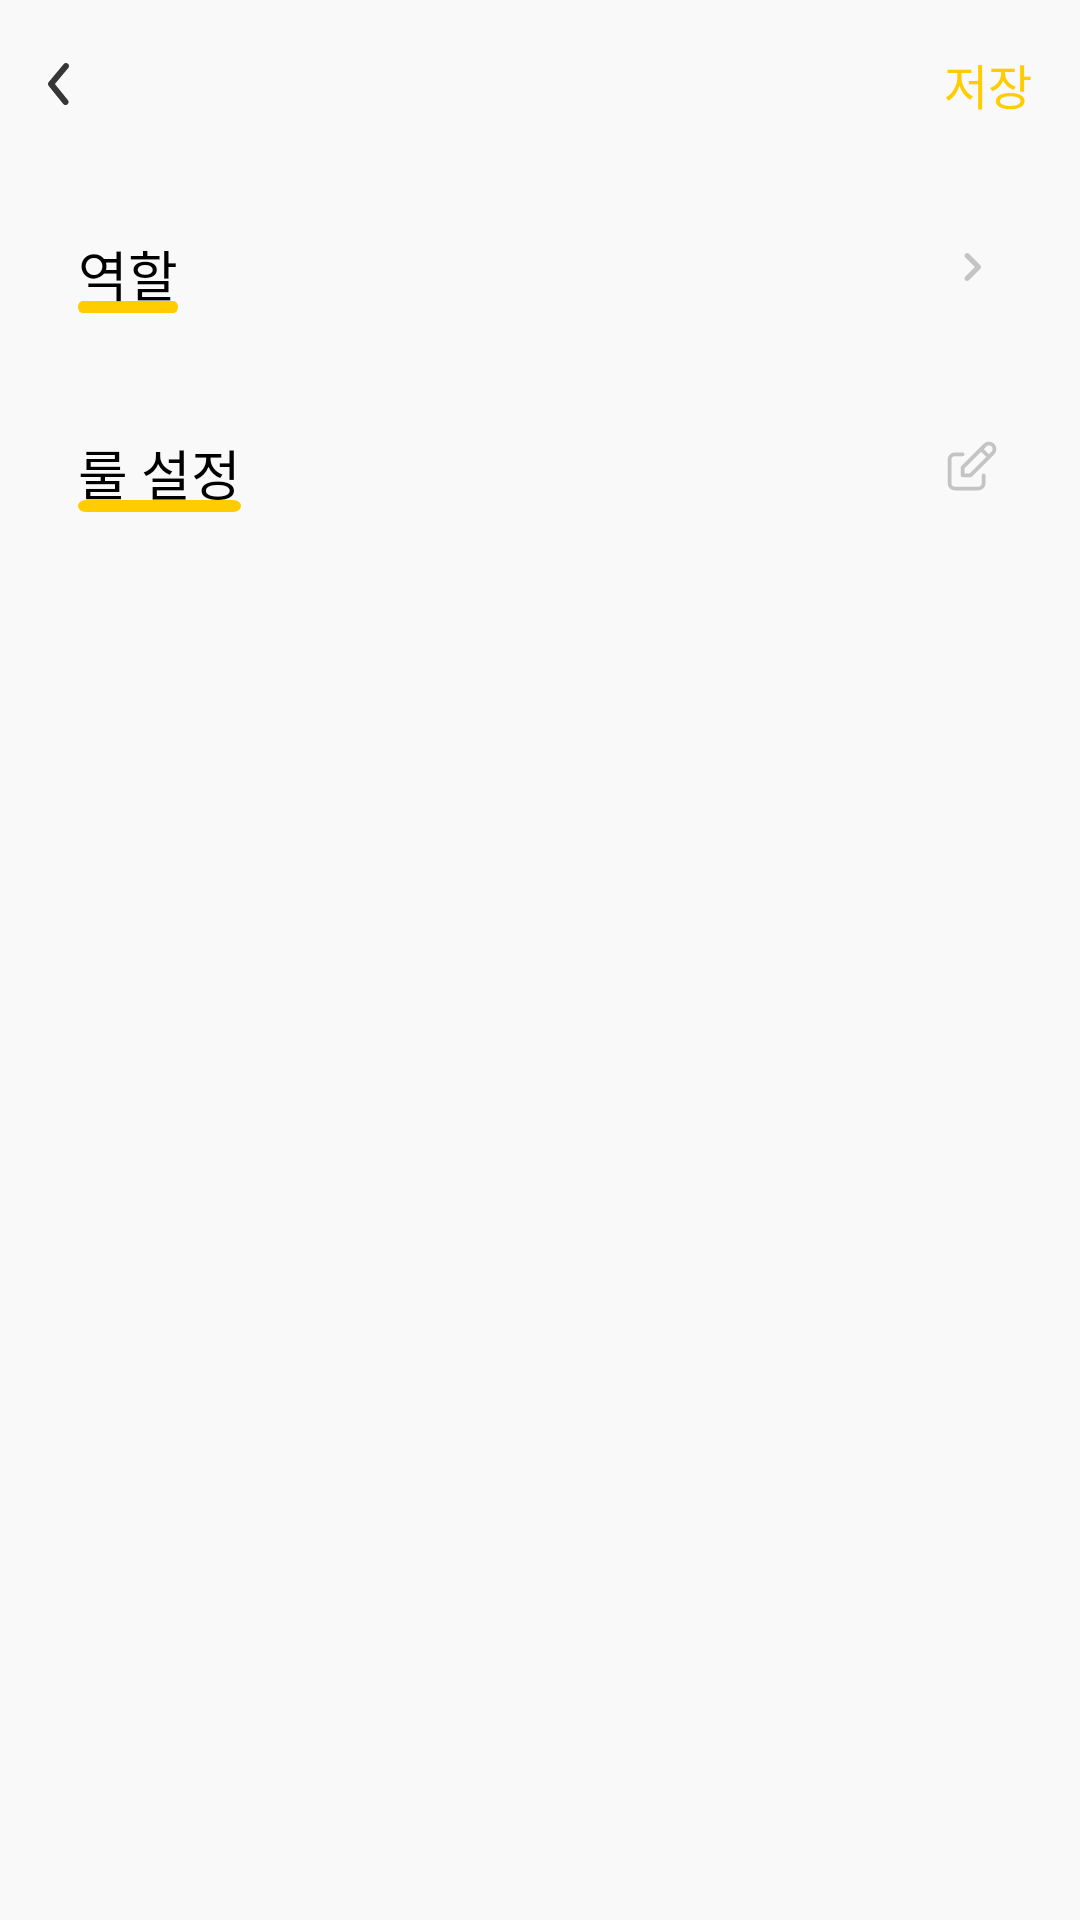

Locate icon controls on the screen. Image size 1080px x 1920px, boxes as (x1, y1, x2, y2).
back: (48, 63, 69, 105)
edit: (948, 442, 996, 491)
right arrow: (964, 253, 981, 281)
